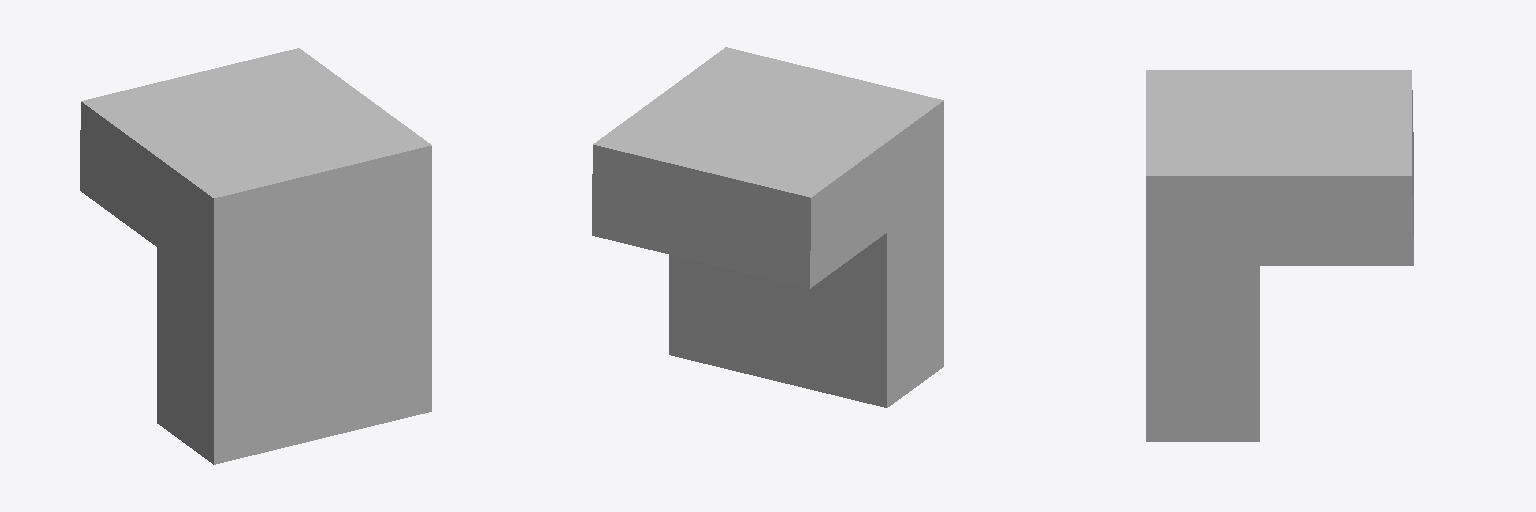
File: nominal.obj
The picture shows the model from 3 angles: view 1: azimuth 30°, elevation 25°; view 2: azimuth 150°, elevation 25°; view 3: azimuth 270°, elevation 25°; orthographic projection.
Parts seen in each view (by area): view 1: nominal; view 2: nominal; view 3: nominal.
Boxes of the visible parts, box(x1,y1,x2,y2) form: nominal: box(80, 48, 431, 464); nominal: box(592, 47, 943, 407); nominal: box(1146, 70, 1413, 441).
Size of the model in its own units: 3.04 by 3.55 by 3.24.